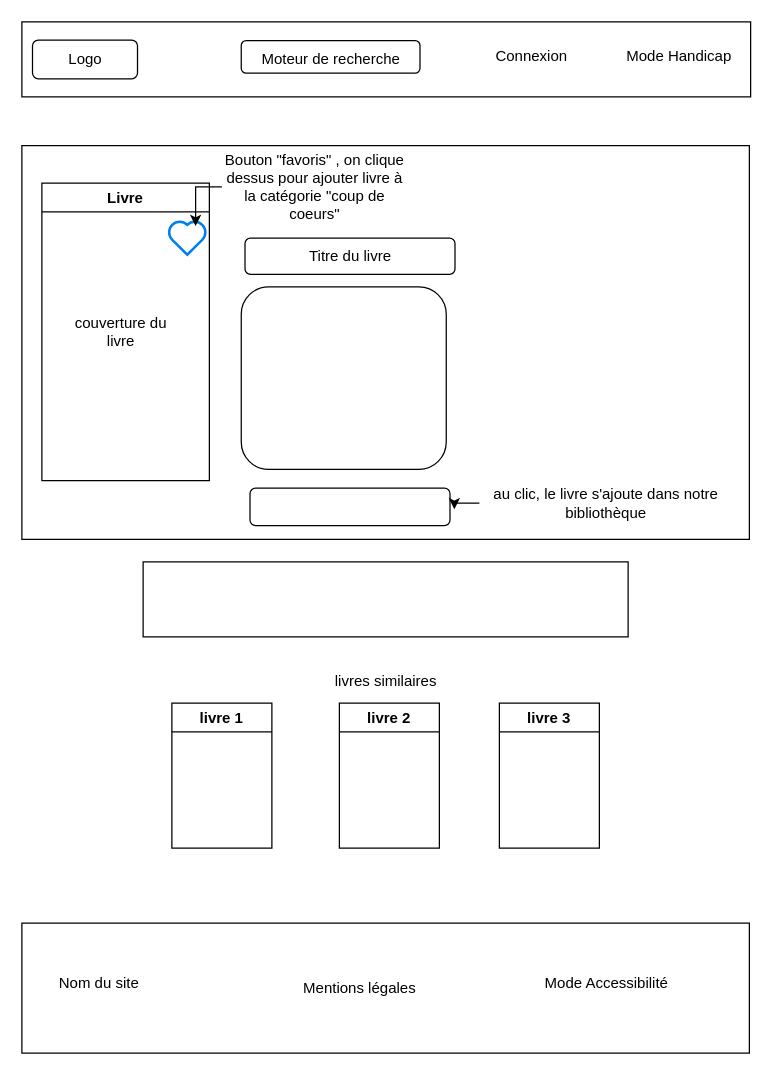
Some shapes in this 773 by 1075 pixel diagram are drawn without their labels. Each missing label, with the centre of its shape:
"Ajouter à la bibliothèque" goes at point (349, 506).
"Informations du livre" goes at point (343, 377).
"Résumé du Livre" goes at point (385, 599).
